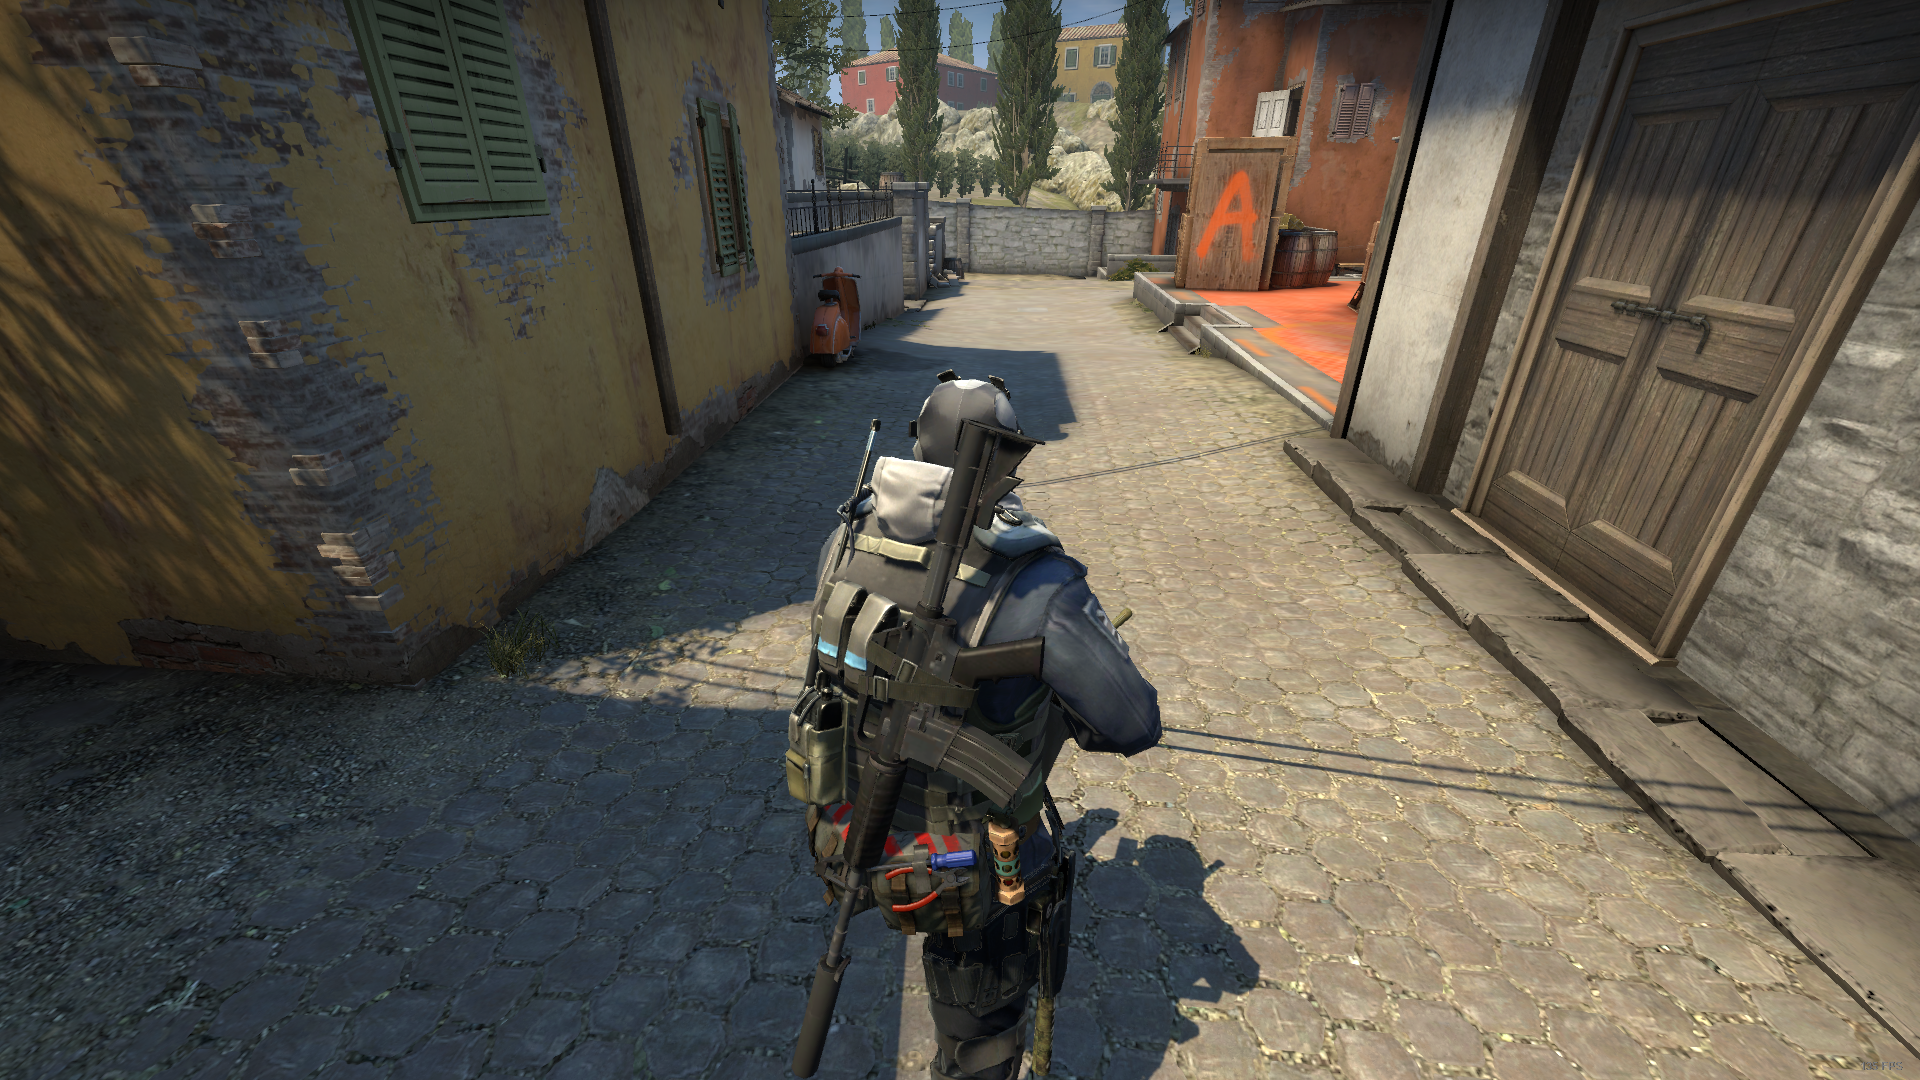ct: (777, 368, 1164, 1080)
